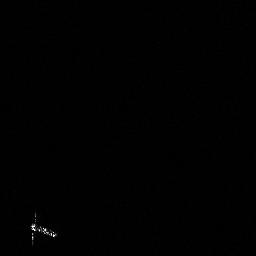ship: (26, 209, 60, 246)
